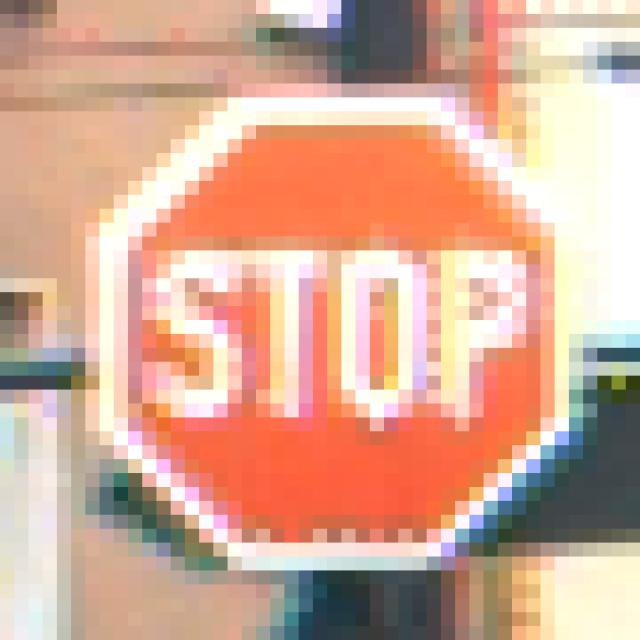STOP: (86, 85, 570, 558)
